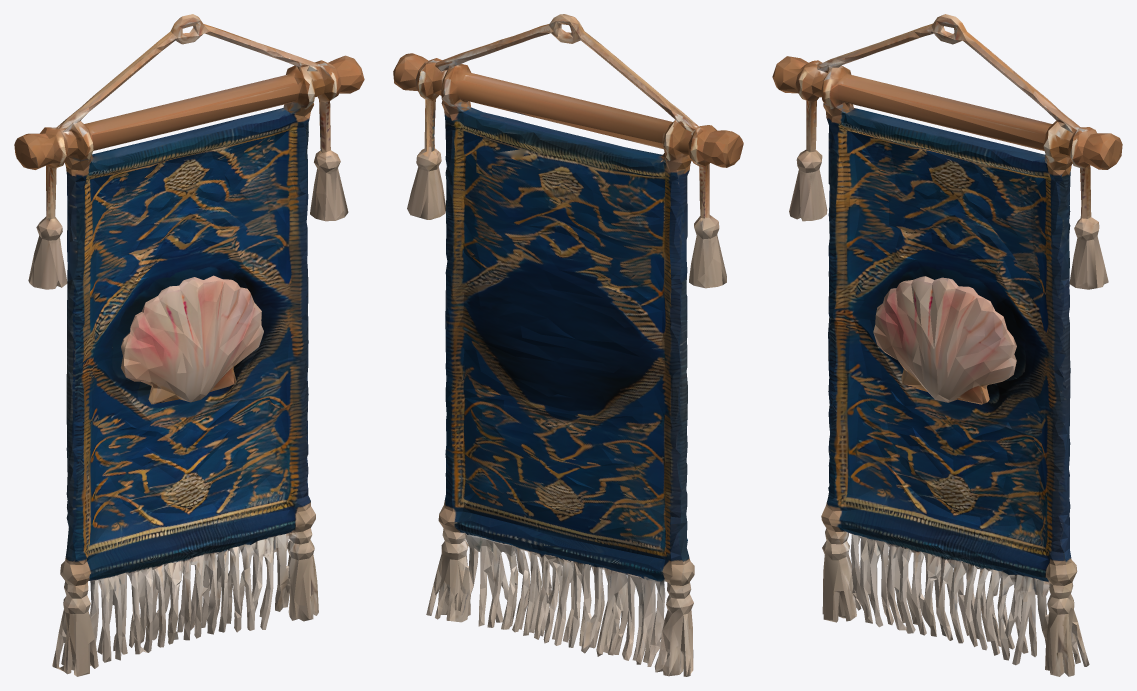
Rendered from product-lijin-001-web.glb.
3 renders of one model, left to right at view 1: azimuth 30°, elevation 25°; view 2: azimuth 150°, elevation 25°; view 3: azimuth 330°, elevation 25°, orthographic.
Visible parts, largest first — view 1: material; view 2: material; view 3: material.
Part boxes in pixels (<box>): material: <box>14,14,364,676</box>; material: <box>393,14,743,676</box>; material: <box>772,14,1122,676</box>.
Bounding box in the file's own units: 0.6168 × 1.11 × 0.0841.
1 material, 1 textured.
